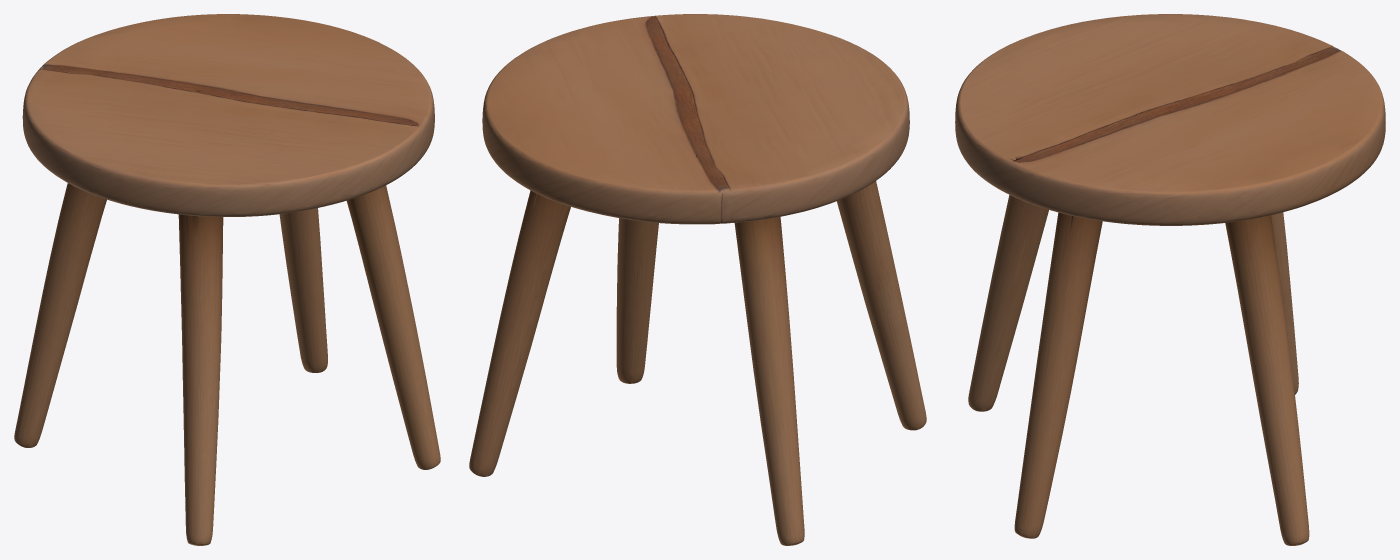
Rendered from SideTable.glb.
3 views of the same model, side by side, from view 1: azimuth 30°, elevation 25°; view 2: azimuth 150°, elevation 25°; view 3: azimuth 270°, elevation 25° (orthographic). The views are drawn at different scales.
Parts seen in each view (by area): view 1: node_0; view 2: node_0; view 3: node_0.
Part boxes in pixels (bbox=[...]): node_0: bbox=[14, 14, 440, 545]; node_0: bbox=[469, 14, 926, 545]; node_0: bbox=[955, 14, 1385, 545].
Bounding box in the file's own units: 0.8116 × 0.7617 × 0.8116.
Materials: 1 (1 with a texture image).
